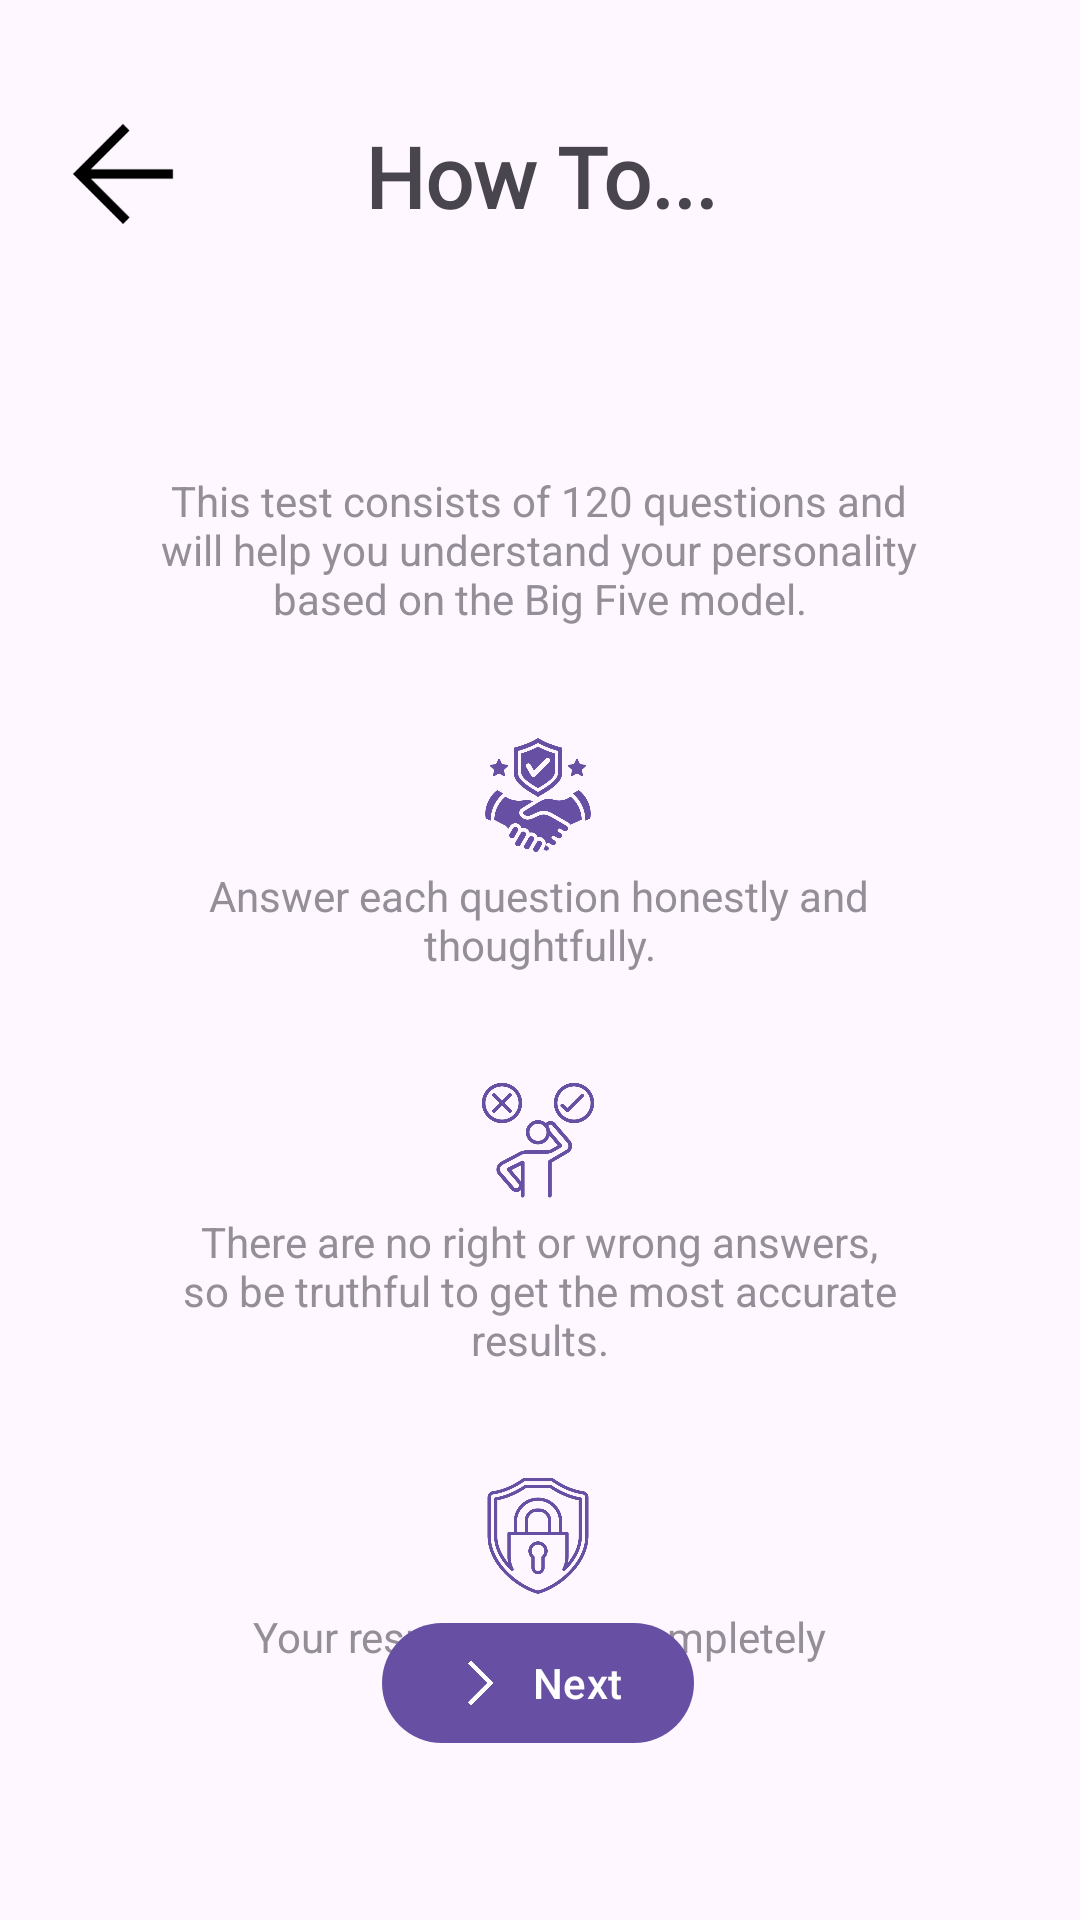

Named icons in this screenshot (1080*1920) and their centers, point (x, y):
arrow back: point (123, 174)
confidentiality: point (538, 1536)
decisionmaking: point (538, 1140)
trust: point (538, 795)
